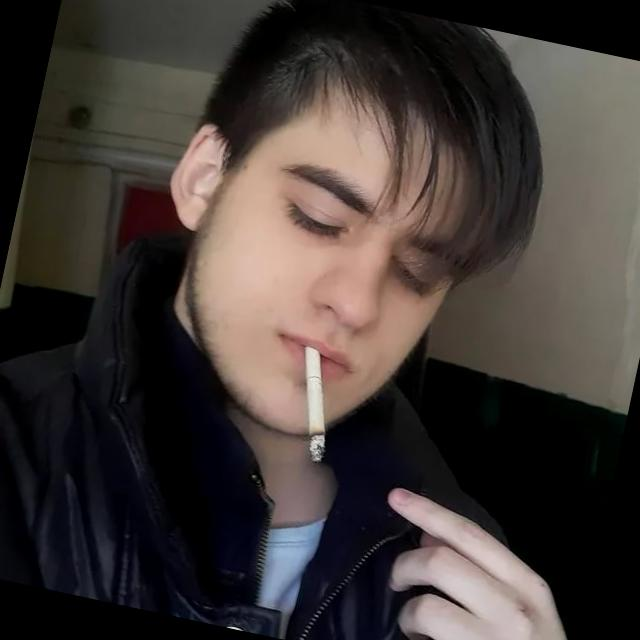smoke: (278, 341, 350, 470)
